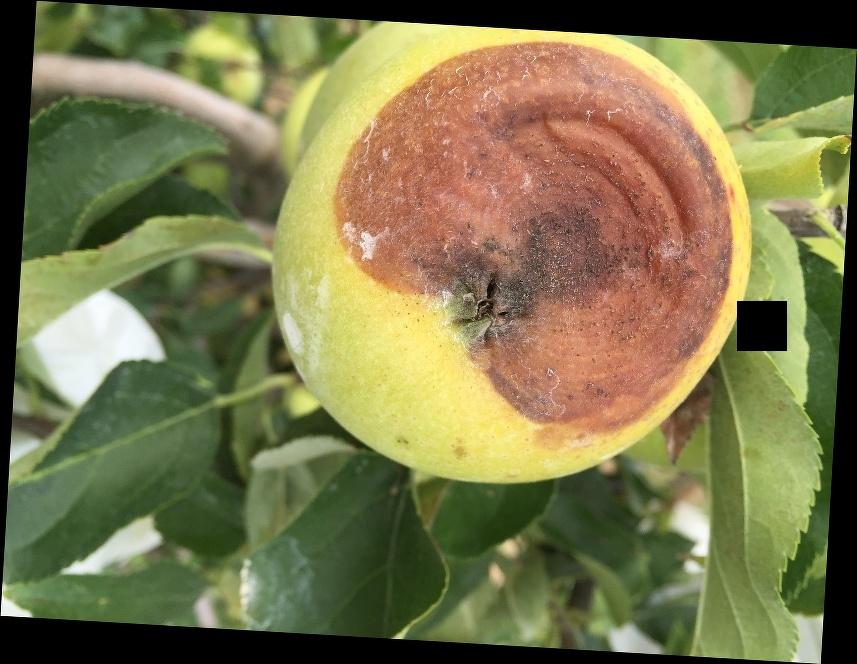rotten apple: (271, 29, 752, 487)
